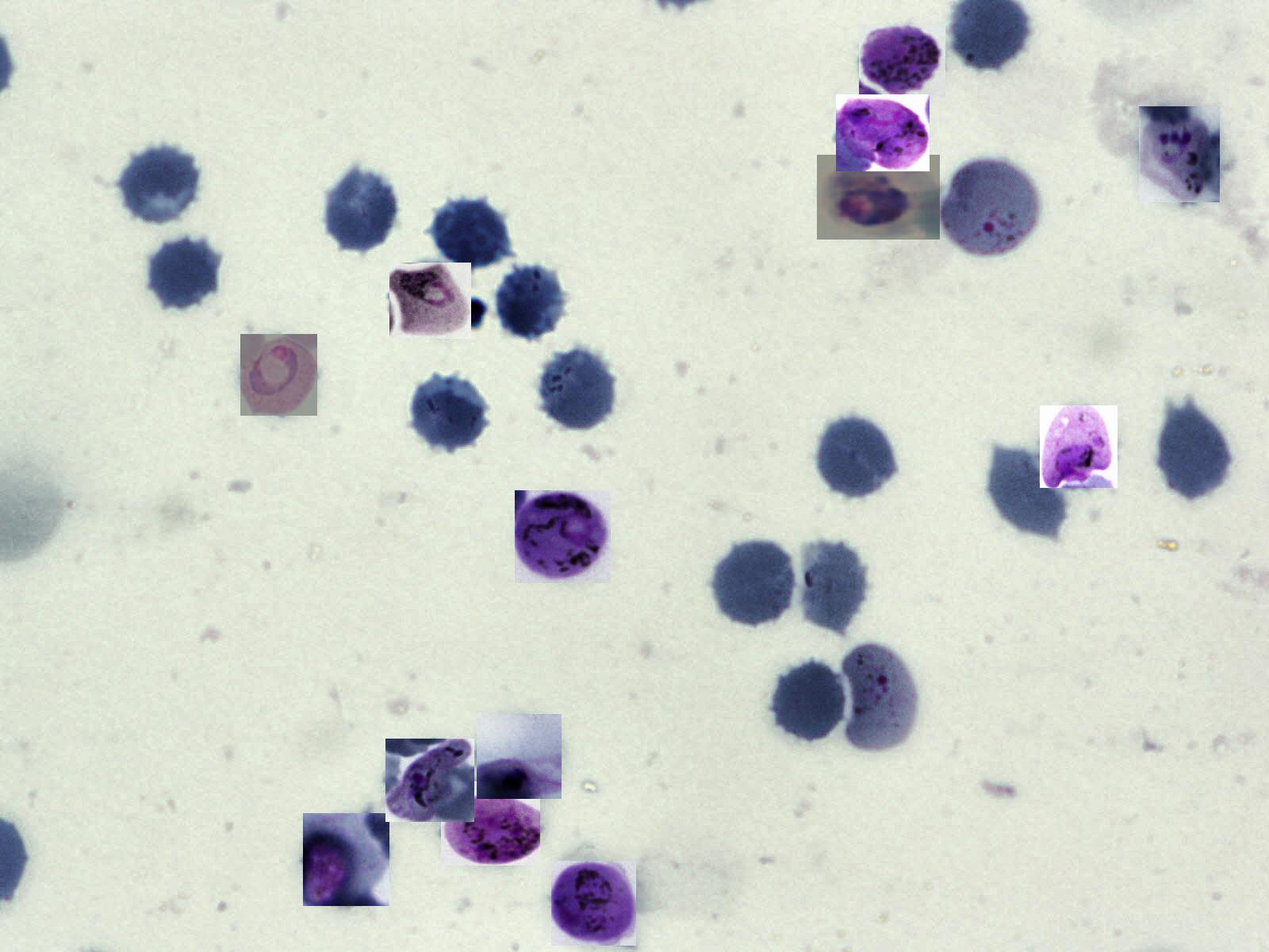Infected: (817, 155, 940, 240), (941, 158, 1041, 259), (515, 490, 611, 583), (842, 640, 920, 754), (441, 781, 540, 866), (303, 813, 389, 906), (1139, 107, 1220, 203), (385, 739, 474, 822), (836, 94, 930, 171), (477, 714, 562, 799), (551, 861, 636, 946), (1040, 405, 1118, 488), (240, 334, 317, 416), (389, 263, 471, 339), (859, 25, 945, 97)
Uninfected: (1156, 398, 1233, 501), (987, 447, 1068, 542), (711, 539, 797, 625), (117, 143, 203, 226), (796, 539, 868, 635), (815, 415, 895, 497), (540, 347, 619, 429), (323, 168, 400, 252), (408, 374, 489, 452), (774, 659, 847, 743), (147, 236, 222, 309), (434, 197, 510, 269), (498, 263, 569, 340)
